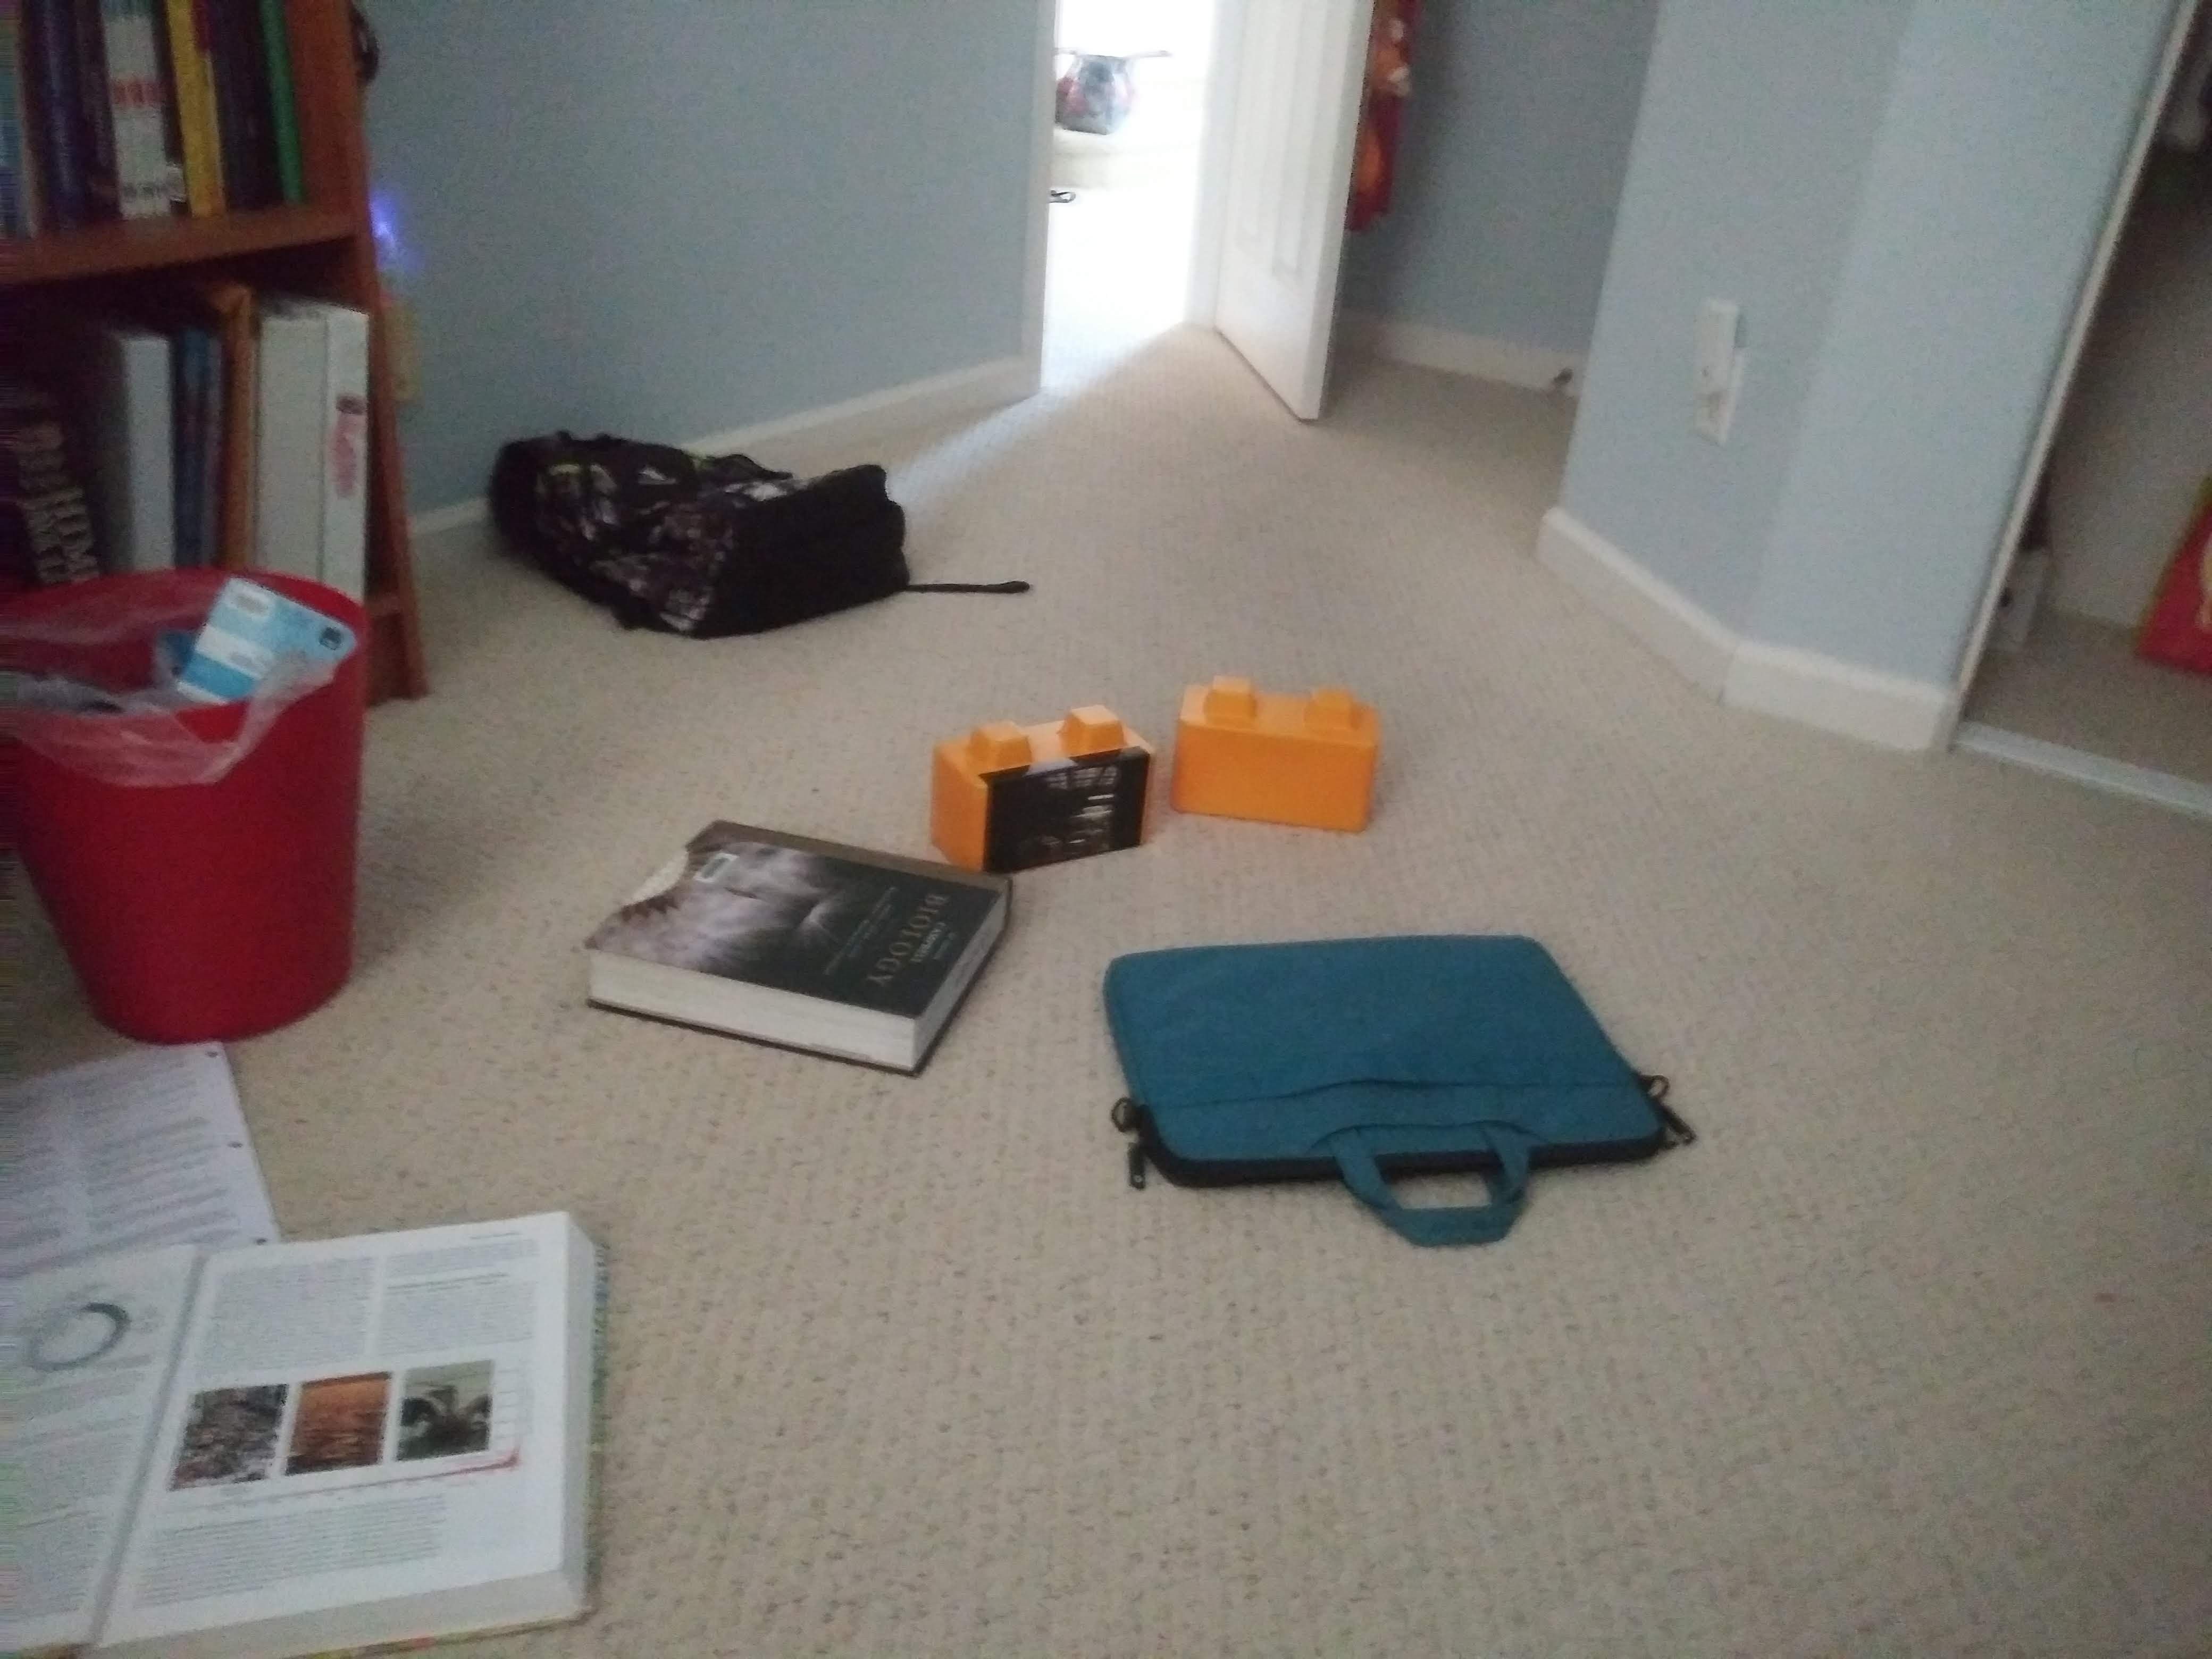skystone: (942, 732, 1153, 877)
stone: (1179, 690, 1383, 842)
